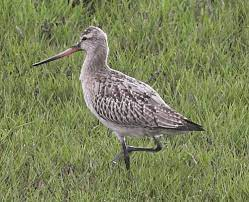Walking: (33, 14, 211, 180)
